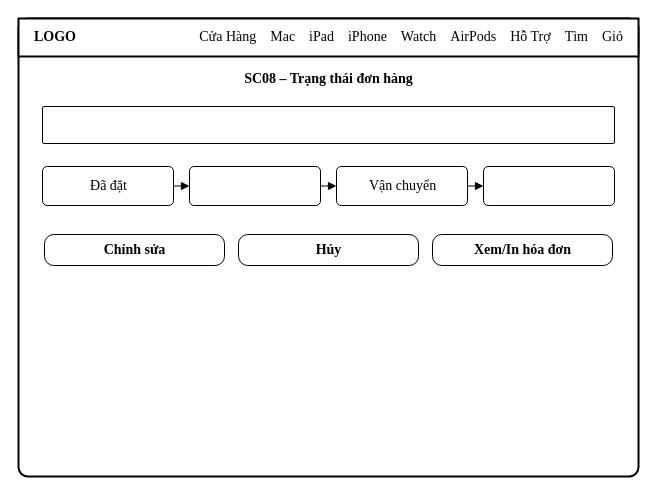
Some shapes in this 656 by 494 pixel diagram are drawn without their labels. The centre of each missing label's shape, as x and y in pixels:
"Giao" belongs at [548,186].
"Mã đơn / email (khách vãng lai)" belongs at [328,125].
"Đóng gói" belongs at [254,186].
